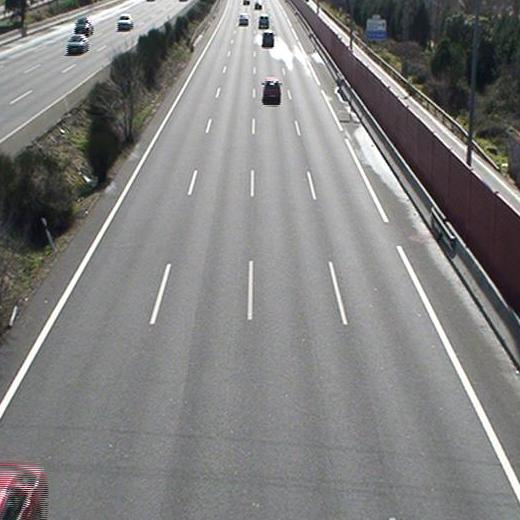car: (263, 79, 280, 102), (258, 14, 271, 29), (263, 31, 275, 47), (240, 14, 247, 27)
